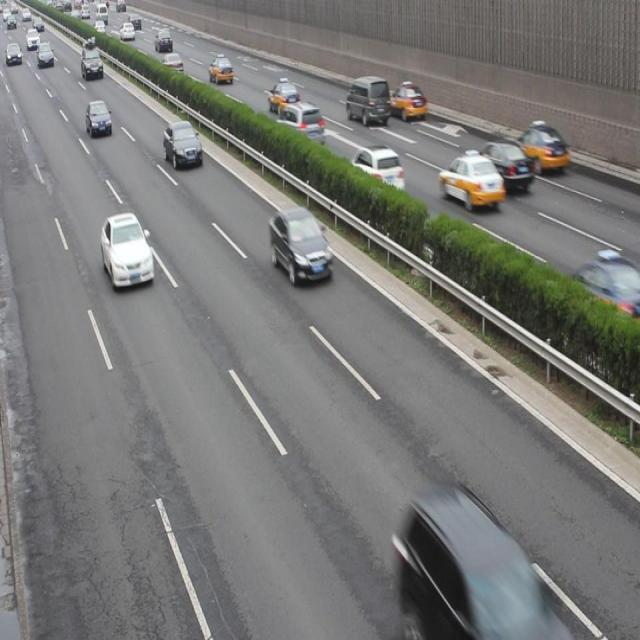car: (404, 484, 566, 640), (268, 205, 331, 286), (101, 212, 154, 291), (438, 154, 504, 212), (471, 139, 534, 192), (347, 144, 404, 197), (514, 125, 568, 175), (274, 101, 324, 147), (163, 119, 203, 170), (388, 80, 427, 121), (267, 79, 299, 114), (86, 98, 113, 138), (208, 56, 234, 84)
truck: (345, 75, 390, 128)
